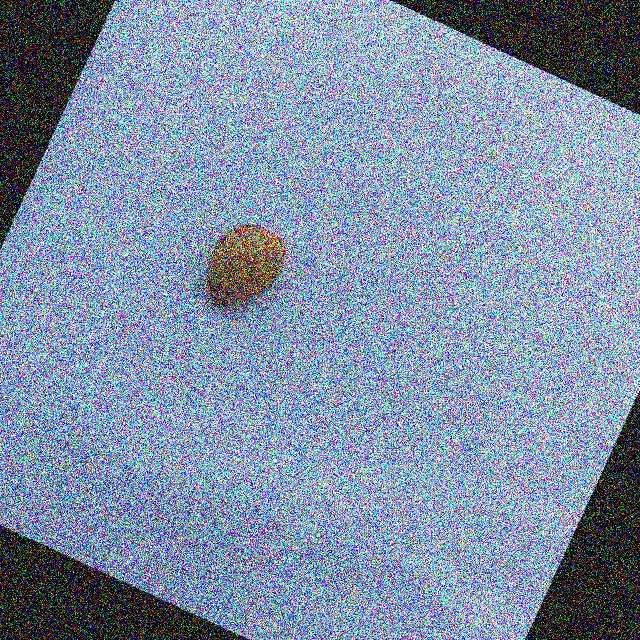grade2: (189, 209, 301, 329)
